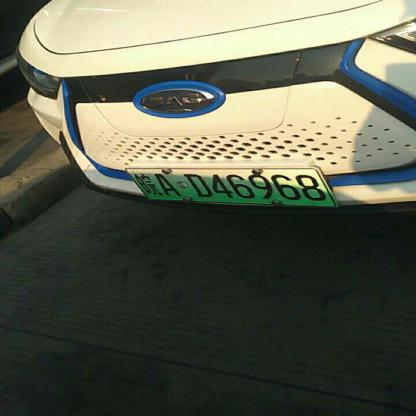lp: (127, 169, 336, 205)
